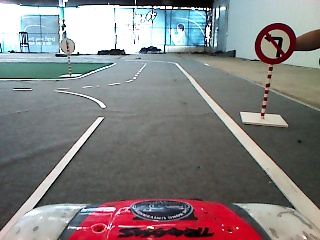ban_left: (255, 24, 296, 64)
